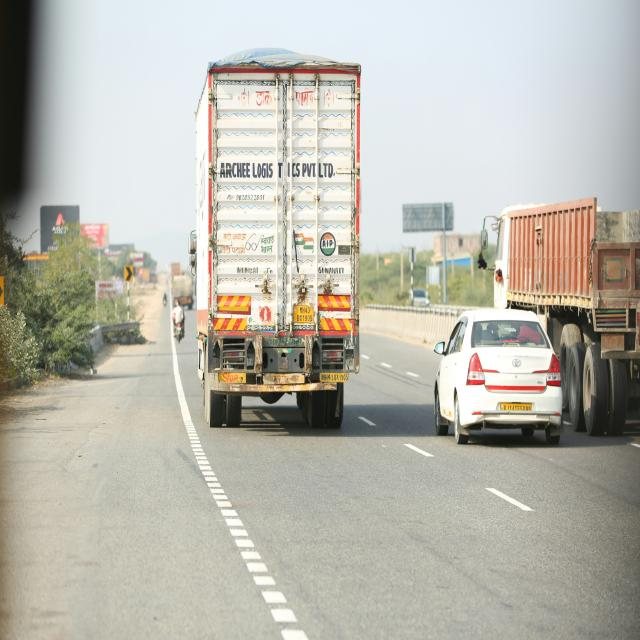Car: (435, 309, 563, 443), (410, 289, 429, 306)
Trucks: (190, 50, 360, 427), (495, 198, 639, 434), (172, 274, 193, 309), (171, 263, 181, 282)
